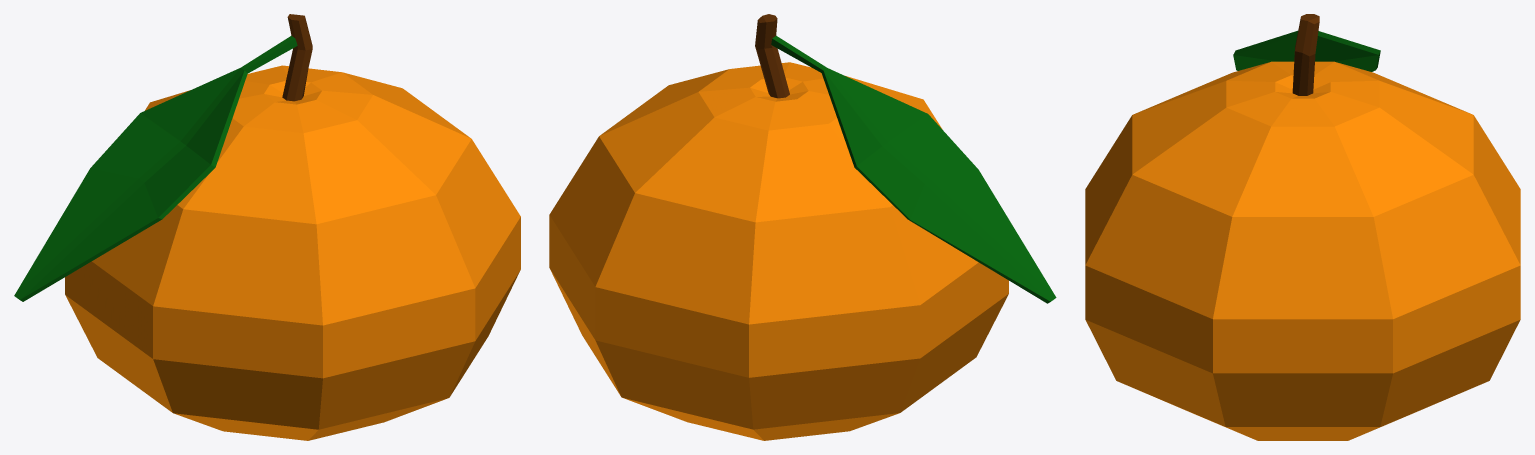
Rendered from clementine01.obj.
3 views of the same model, side by side, from view 1: azimuth 30°, elevation 25°; view 2: azimuth 150°, elevation 25°; view 3: azimuth 270°, elevation 25° (orthographic). The views are drawn at different scales.
Parts seen in each view (by area): view 1: Cylinder; view 2: Cylinder; view 3: Cylinder.
Boxes of the visible parts, bbox=[...] form: Cylinder: bbox=[14, 14, 520, 440]; Cylinder: bbox=[549, 14, 1056, 440]; Cylinder: bbox=[1085, 14, 1520, 440].
Size of the model in its own units: 0.0715 by 0.0561 by 0.0574.
1 material, 1 textured.
